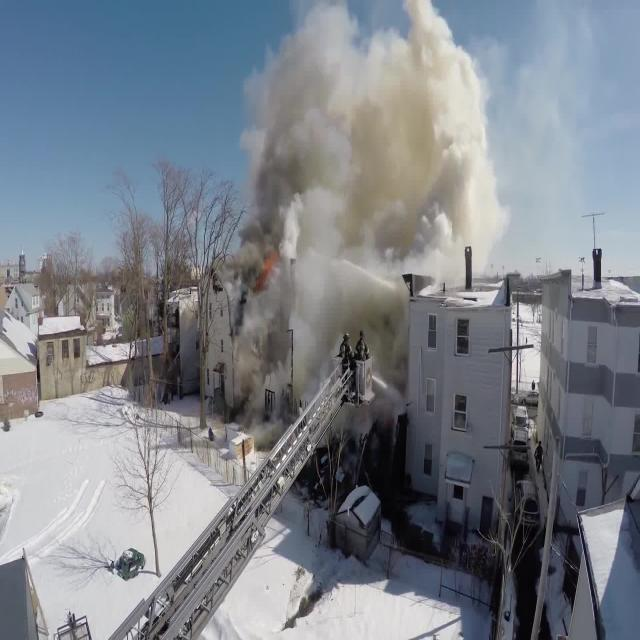Smoke: (234, 0, 506, 446)
